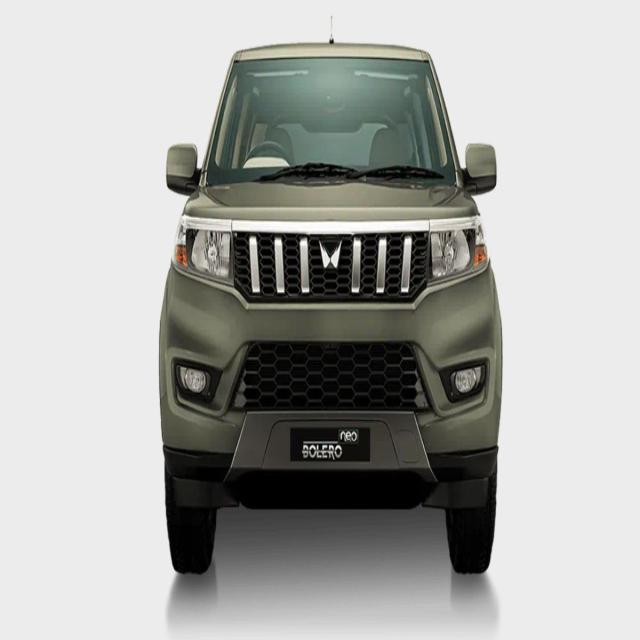light_vehicle: (158, 36, 502, 582)
